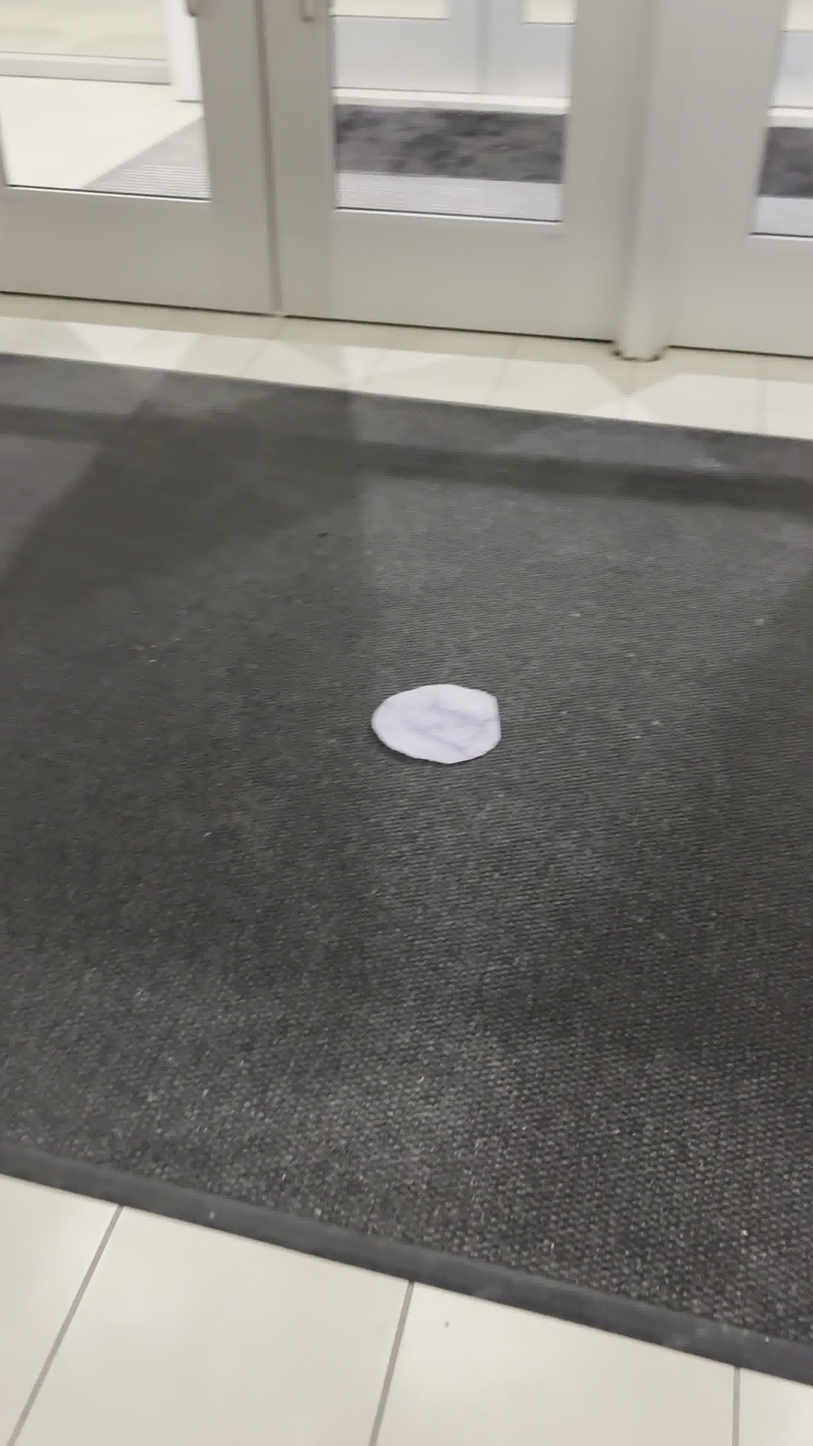Target: (371, 684, 501, 765)
